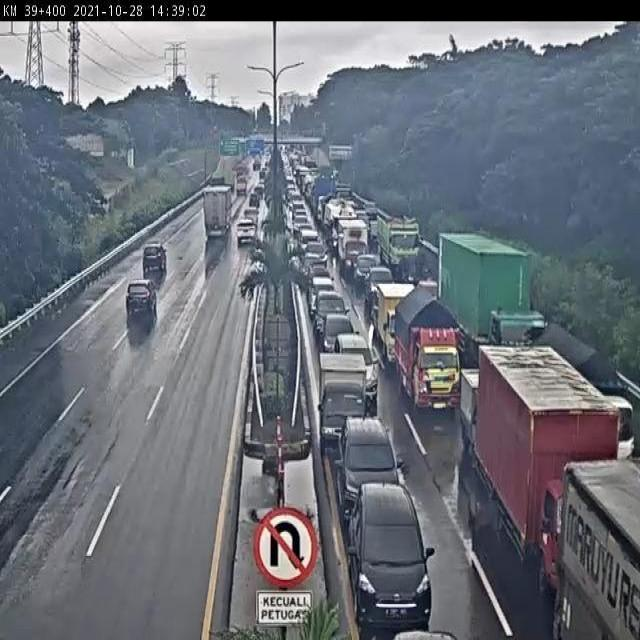big truck: (477, 345, 621, 620), (436, 232, 548, 399), (202, 185, 231, 239)
car: (347, 481, 438, 624), (337, 419, 406, 528), (363, 574, 459, 640), (316, 353, 373, 460), (373, 205, 418, 276), (322, 312, 359, 368), (311, 292, 350, 345), (122, 278, 159, 318), (366, 266, 395, 314), (308, 276, 338, 319), (141, 245, 168, 276), (304, 242, 328, 274), (355, 255, 377, 288), (234, 221, 258, 248)
small truck: (522, 321, 638, 492), (394, 281, 464, 415), (376, 286, 422, 370), (337, 219, 370, 277)
